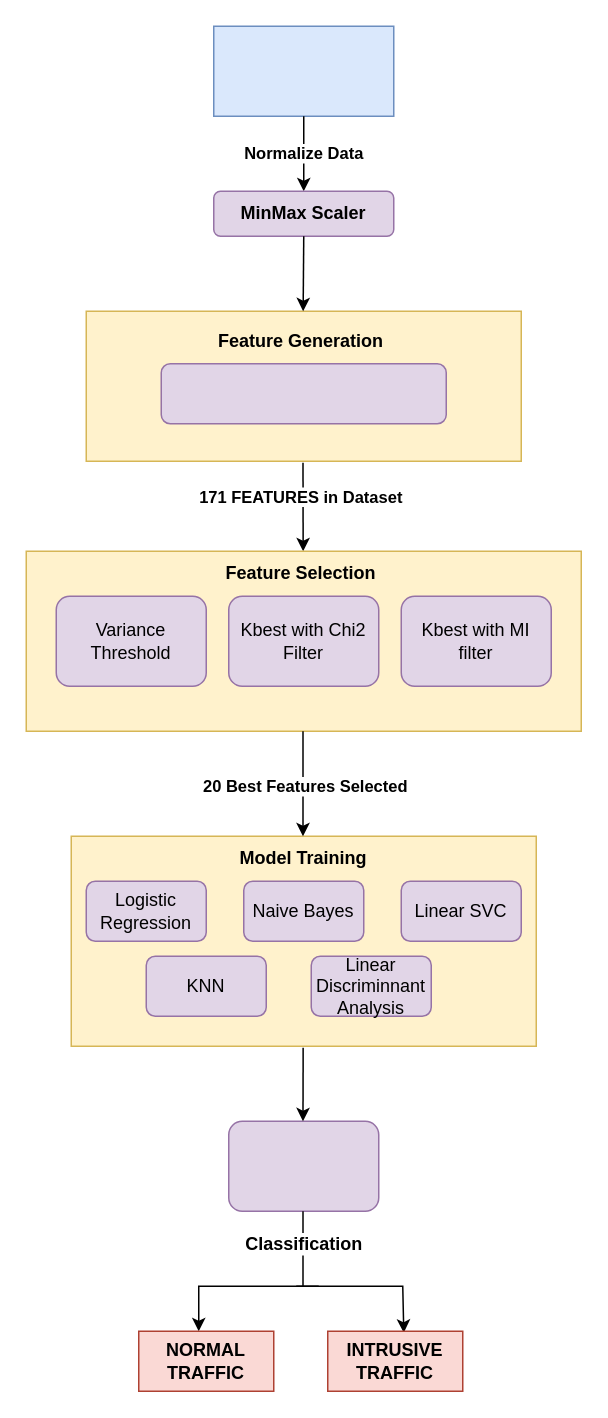
Some shapes in this 608 by 1418 pixel diagram are drawn without their labels. The centre of each missing label's shape, as x and y in pixels:
"AWID2 Dataset 150 FEATURES" goes at (303,70).
"Hyperparameter Tuning" goes at (303,1165).
"Variational Autoencoder Generates 20 new features" goes at (303,393).
